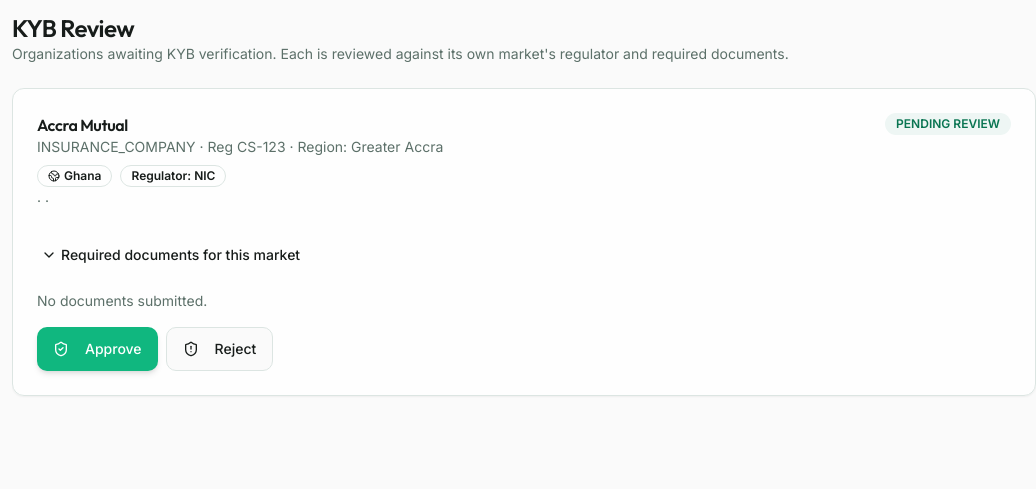
it: OrgKybReviewPage › loads the server's per-market checklist when opened
Expected: the heading "Accra Mutual" is shown, [37,115,128,135]
Click the button "Required documents for this market": (171, 255) [29,235,312,275]
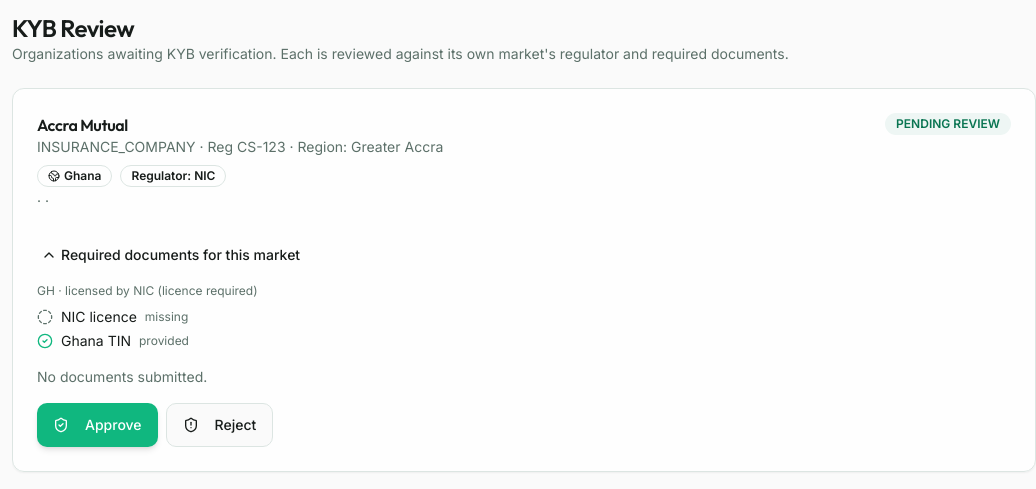
Now the text "missing" is shown, box [145,309,188,325]
Now the text "provided" is shown, box [139,333,189,349]
